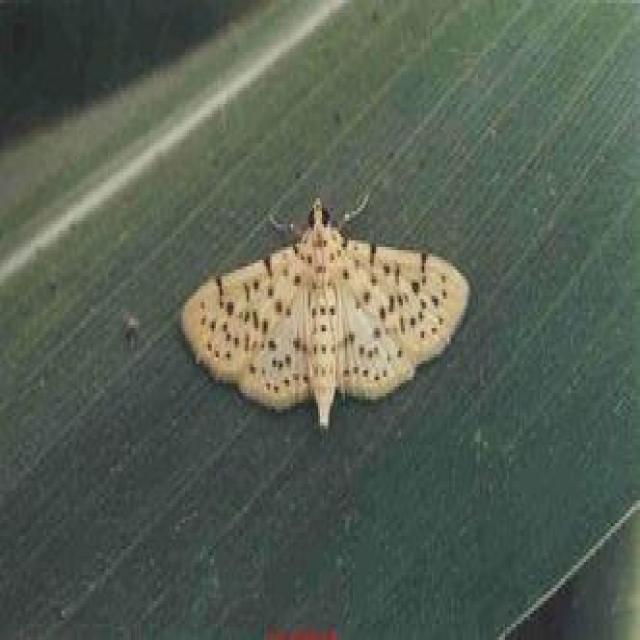peach borer: (179, 191, 476, 435)
